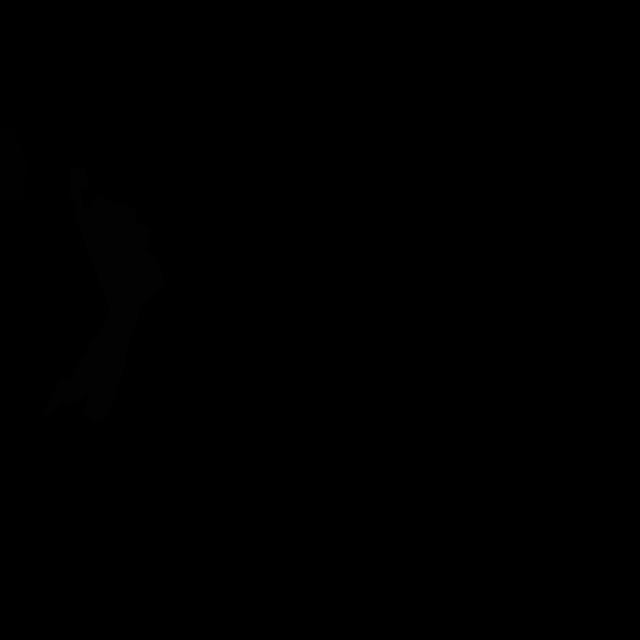cardboard: (39, 168, 164, 424)
rigid_plastic: (0, 123, 29, 202)
